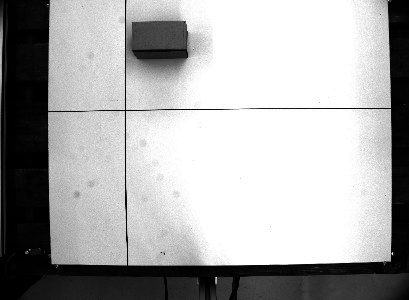b2: (128, 18, 191, 60)
